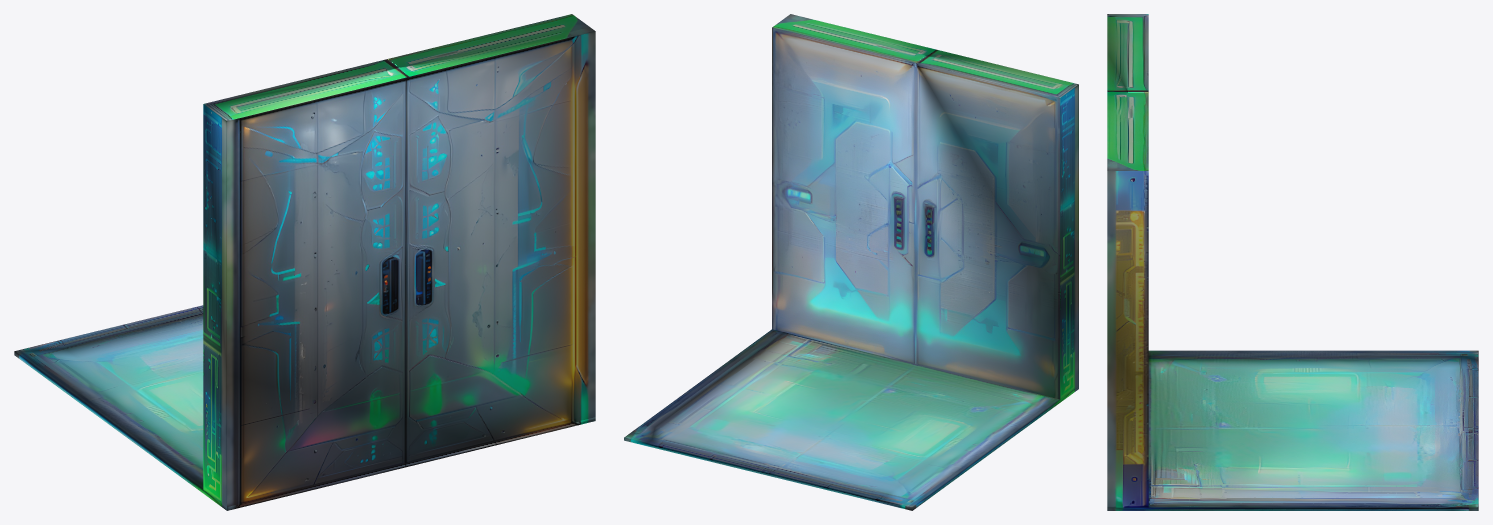
File: residentialBasicFloorWall1.glb
The picture shows the model from 3 angles, left to right: view 1: azimuth 30°, elevation 25°; view 2: azimuth 150°, elevation 25°; view 3: azimuth 270°, elevation 25°; orthographic projection. The views are drawn at different scales.
Visible parts, largest first — view 1: residentialBasicFloorWall; view 2: residentialBasicFloorWall; view 3: residentialBasicFloorWall.
Part boxes in pixels (x1,y1,x2,y2): residentialBasicFloorWall: (14,14,595,510); residentialBasicFloorWall: (624,14,1078,510); residentialBasicFloorWall: (1107,14,1478,510).
Bounding box in the file's own units: 1 × 1.01 × 1.
Materials: 1 (1 with a texture image).
